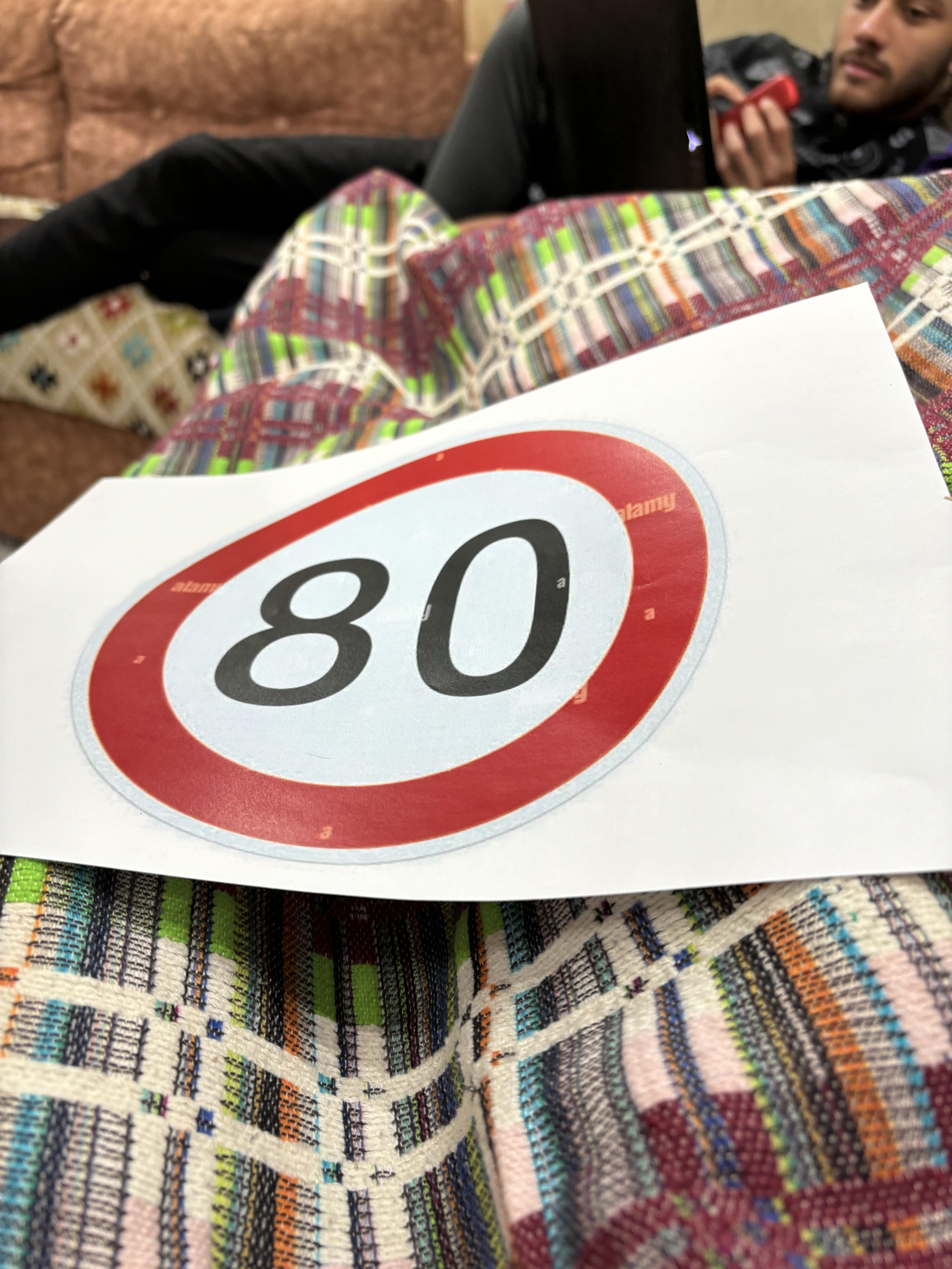80-Speed: (58, 420, 747, 861)
